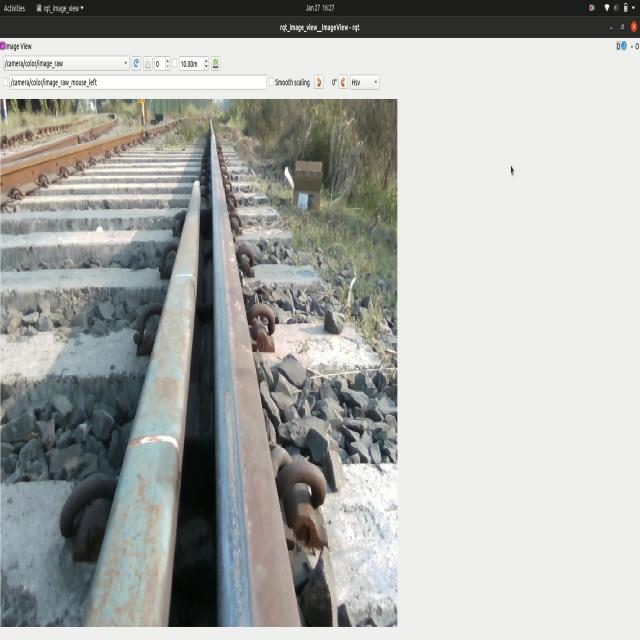correct: (254, 326, 268, 354)
underrailed: (286, 491, 327, 551)
